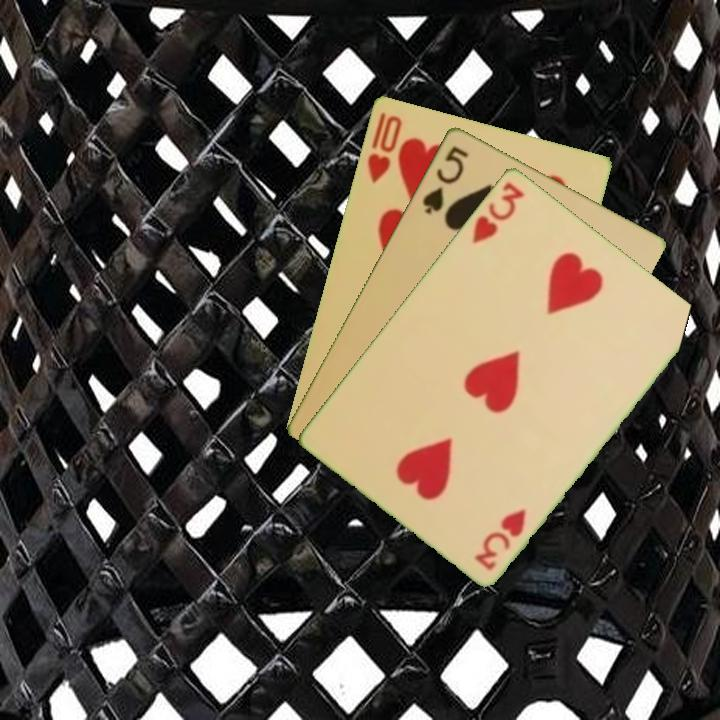10h: (363, 108, 405, 186)
3h: (468, 178, 528, 246), (470, 504, 529, 573)
5s: (418, 142, 472, 217)
